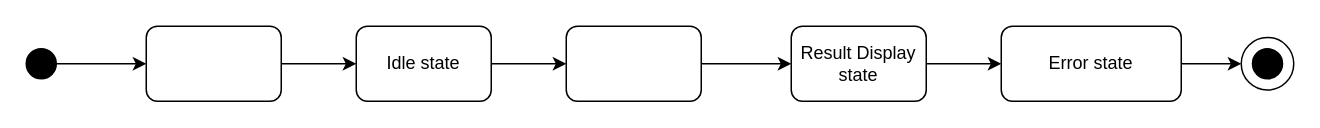
This 1320x128 diagram has some shape labels left out. Each missing label, with the centre of its shape:
"Start" goes at pixel 213 63.
"URL analysis state" goes at pixel 633 63.
